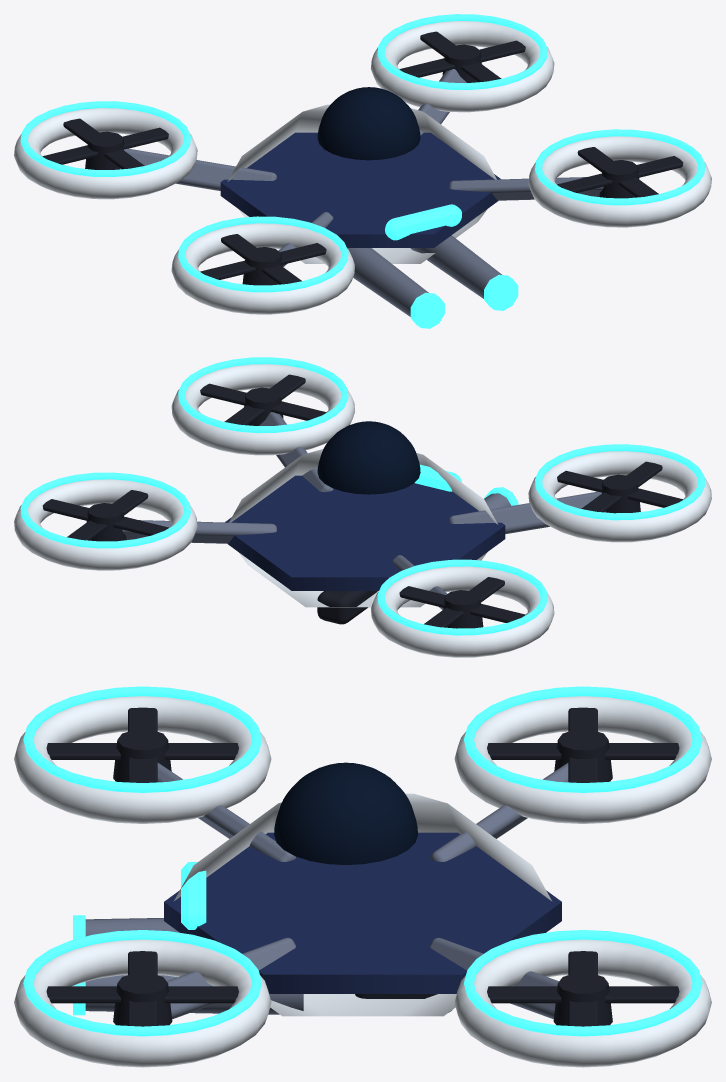
Rendered from striker.glb.
3 renders of one model, top to bottom at view 1: azimuth 30°, elevation 25°; view 2: azimuth 150°, elevation 25°; view 3: azimuth 270°, elevation 25°, orthographic. The views are drawn at different scales.
Visible parts, largest first — view 1: root:hull, root:plate, root:glow, root:alloy, root:glass, rotorFR:dark, rotorFL:dark, rotorBR:dark, rotorBL:dark; view 2: root:hull, root:plate, root:glow, root:glass, root:alloy, rotorBR:dark, rotorBL:dark, rotorFR:dark, rotorFL:dark, root:dark; view 3: root:hull, root:plate, root:glow, root:glass, root:alloy, rotorFL:dark, rotorBL:dark, rotorFR:dark, rotorBR:dark.
Boxes of the visible parts, <box> form: root:hull: <box>14,21,711,314</box>; root:plate: <box>220,132,500,247</box>; root:glow: <box>20,14,705,328</box>; root:alloy: <box>120,69,603,316</box>; root:glass: <box>317,87,420,160</box>; rotorFR:dark: <box>200,234,326,285</box>; rotorFL:dark: <box>557,147,683,198</box>; rotorBR:dark: <box>42,118,168,169</box>; rotorBL:dark: <box>399,31,525,82</box>; root:hull: <box>14,364,711,657</box>; root:plate: <box>225,475,505,590</box>; root:glow: <box>20,357,705,635</box>; root:glass: <box>317,421,420,494</box>; root:alloy: <box>122,412,606,609</box>; rotorBR:dark: <box>399,577,525,628</box>; rotorBL:dark: <box>42,490,168,541</box>; rotorFR:dark: <box>557,461,682,513</box>; rotorFL:dark: <box>200,374,326,425</box>; root:dark: <box>317,591,377,624</box>; root:hull: <box>14,696,711,1067</box>; root:plate: <box>164,832,561,993</box>; root:glow: <box>23,686,702,1036</box>; root:glass: <box>274,762,417,864</box>; root:alloy: <box>85,763,568,1019</box>; rotorFL:dark: <box>46,951,238,1026</box>; rotorBL:dark: <box>487,951,679,1026</box>; rotorFR:dark: <box>46,707,238,782</box>; rotorBR:dark: <box>487,707,679,782</box>.
Size of the model in its own units: 0.984 by 0.31 by 0.824.
